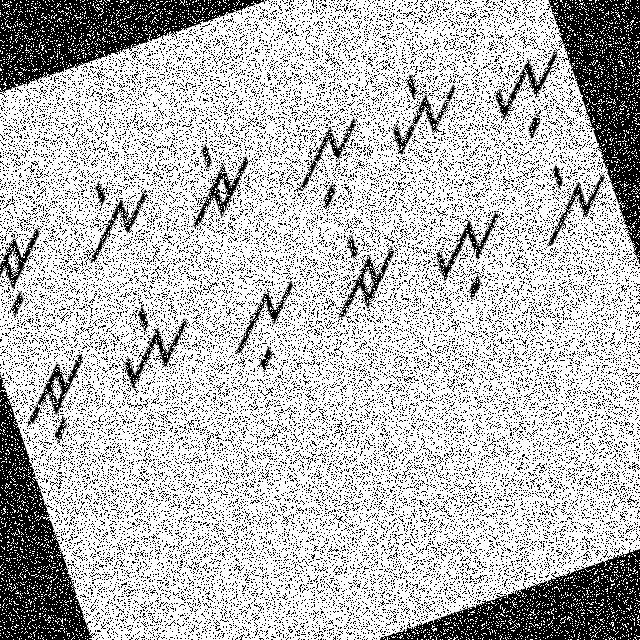le: (59, 161, 168, 269), (516, 146, 622, 256)
lu: (209, 270, 326, 388), (274, 108, 384, 221)
re: (310, 214, 420, 325), (164, 120, 273, 232)
ru: (4, 344, 110, 450), (0, 212, 73, 331)
ye: (366, 56, 478, 162), (101, 290, 206, 398)
yu: (414, 195, 525, 312), (474, 35, 583, 148)
